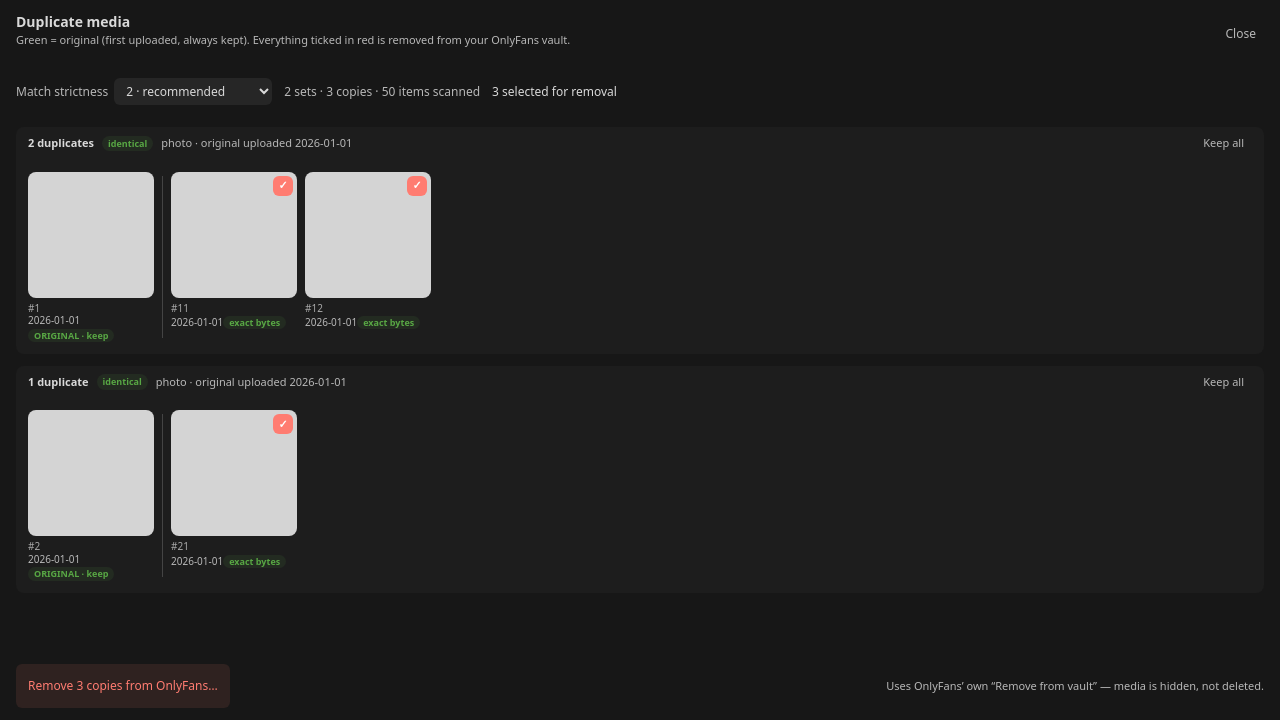
Scenario: VaultDuplicatesModal hide request › a failed hide shows the error, reports nothing removed, refreshes the scan, and is not resent
The width and height of the screenshot is (1280, 720).
Click the button "Remove 3 copies from OnlyFans…" at (123, 686), box [16, 664, 230, 708]
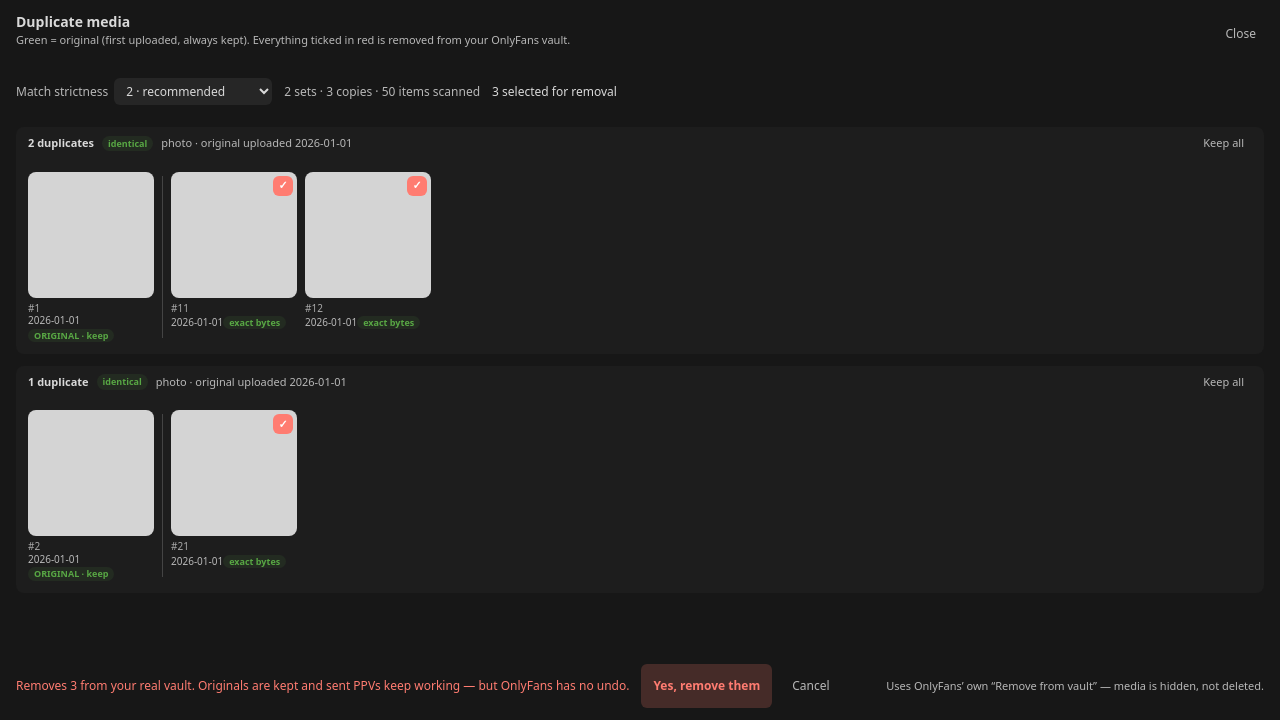
Click the button "Yes, remove them" at (707, 686), box [642, 664, 772, 708]
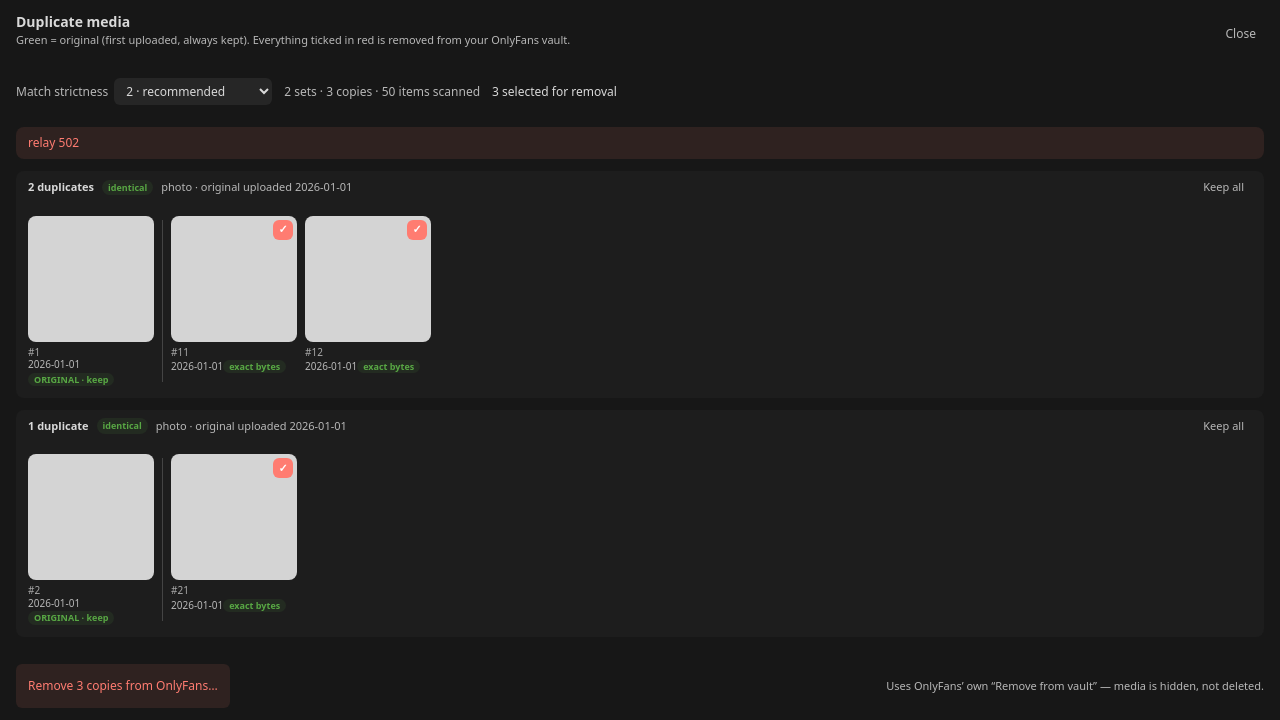
expect the text "relay 502" is shown: met, box [16, 127, 1264, 159]
expect the button "Yes, remove them" is gone: met
